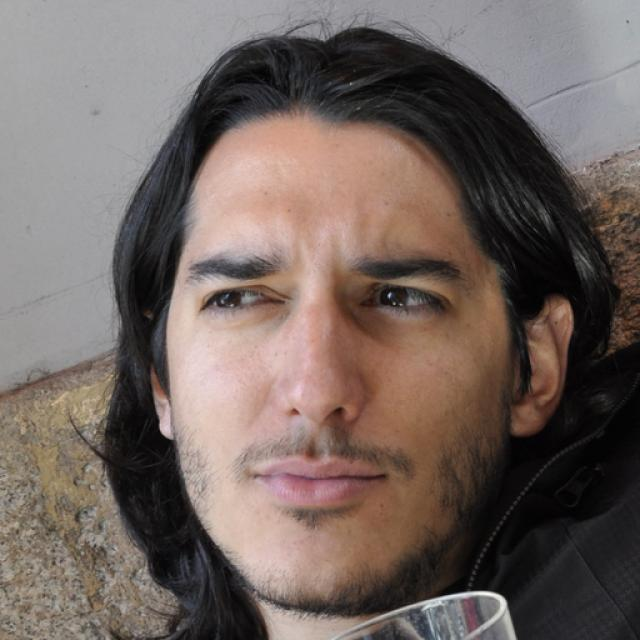content: (164, 115, 514, 619)
